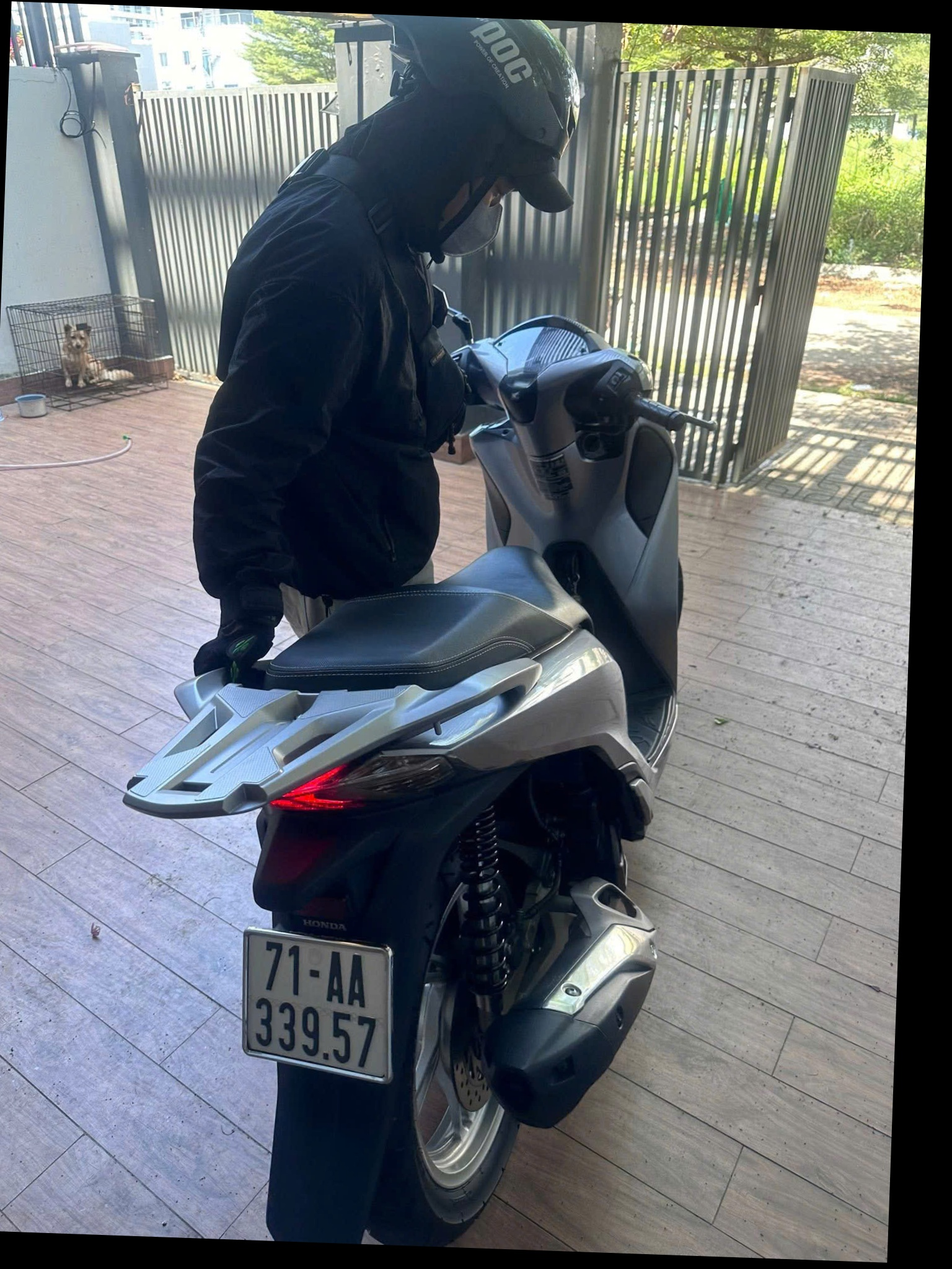Bien-so: (266, 910, 433, 1073)
